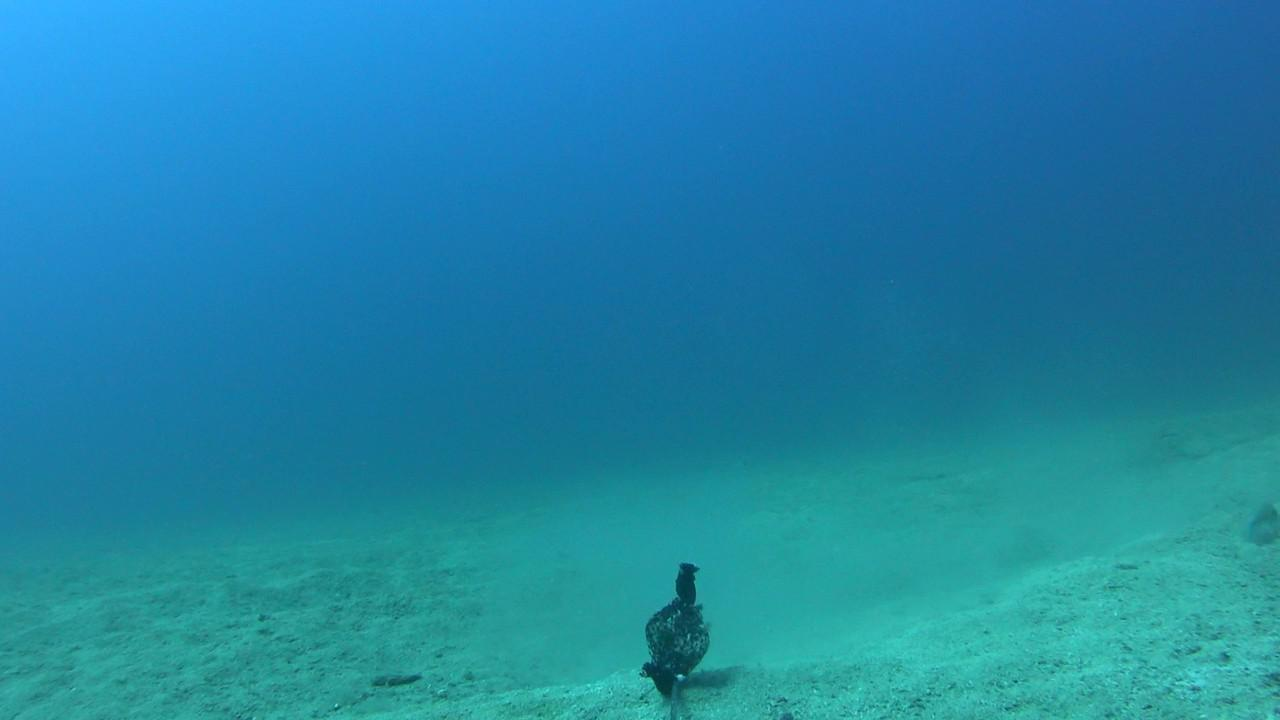myliobatis: (703, 430, 827, 488)
